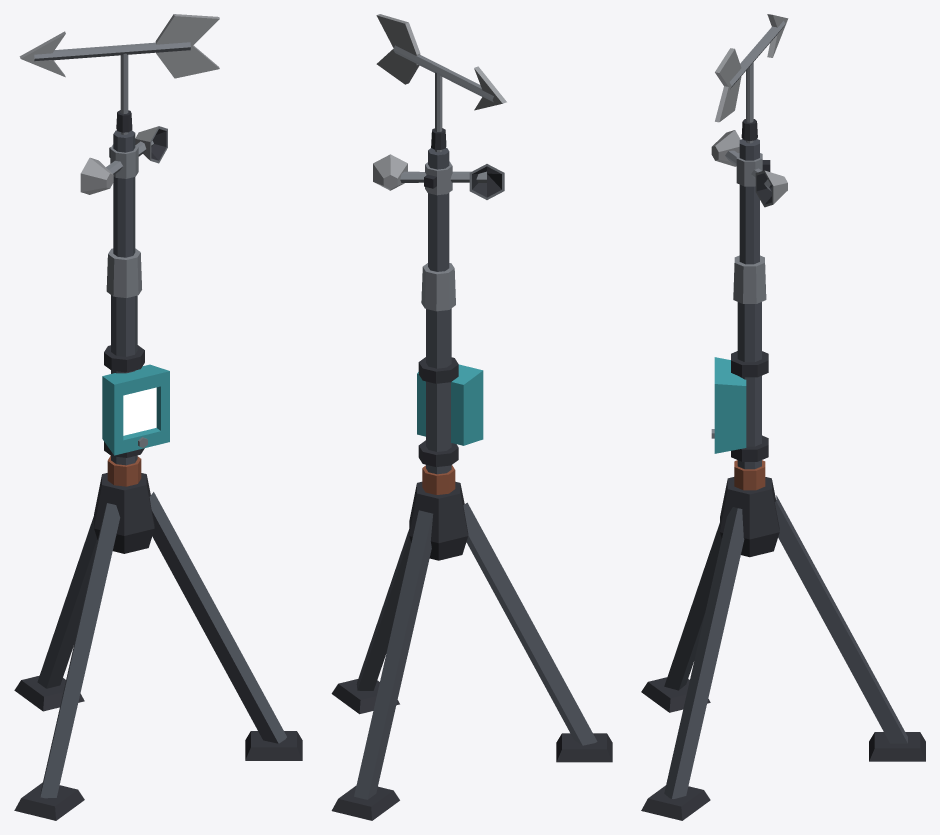
The model's file is weather-mast-7d088f.glb.
The picture shows the model from 3 angles, left to right: view 1: azimuth 30°, elevation 25°; view 2: azimuth 150°, elevation 25°; view 3: azimuth 270°, elevation 25°; orthographic projection. The views are drawn at different scales.
Visible parts, largest first — view 1: mast, vane-mesh, sensor-shell, anemometer-mesh, sensor-readout; view 2: mast, vane-mesh, anemometer-mesh, sensor-shell; view 3: mast, vane-mesh, sensor-shell, anemometer-mesh.
Boxes of the visible parts, bbox=[...] form: mast: bbox=[14, 130, 302, 820]; vane-mesh: bbox=[19, 14, 219, 134]; sensor-shell: bbox=[102, 364, 169, 455]; anemometer-mesh: bbox=[80, 126, 167, 194]; sensor-readout: bbox=[123, 387, 156, 435]; mast: bbox=[331, 148, 612, 820]; vane-mesh: bbox=[376, 14, 506, 152]; anemometer-mesh: bbox=[373, 154, 504, 199]; sensor-shell: bbox=[417, 364, 483, 445]; mast: bbox=[641, 139, 925, 820]; vane-mesh: bbox=[715, 14, 788, 143]; sensor-shell: bbox=[711, 357, 746, 453]; anemometer-mesh: bbox=[711, 130, 787, 207].
Size of the model in its own units: 1.45 by 3.51 by 1.25.
